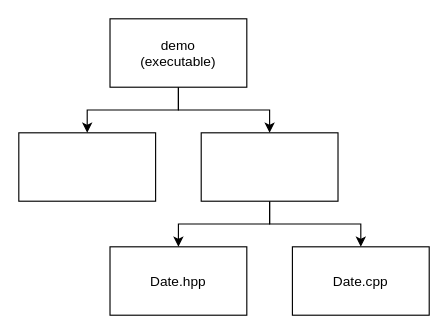
Some shapes in this 448 by 334 pixel diagram are drawn without their labels. The box of each missing label's shape, as (x1, y1, x2, y2) in pixels:
Date (library): (200, 132, 338, 201)
demo.cpp: (18, 132, 156, 201)
